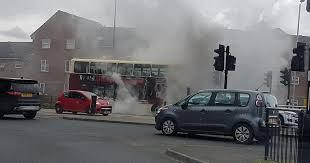smoke: (50, 0, 309, 97), (97, 68, 148, 116)
